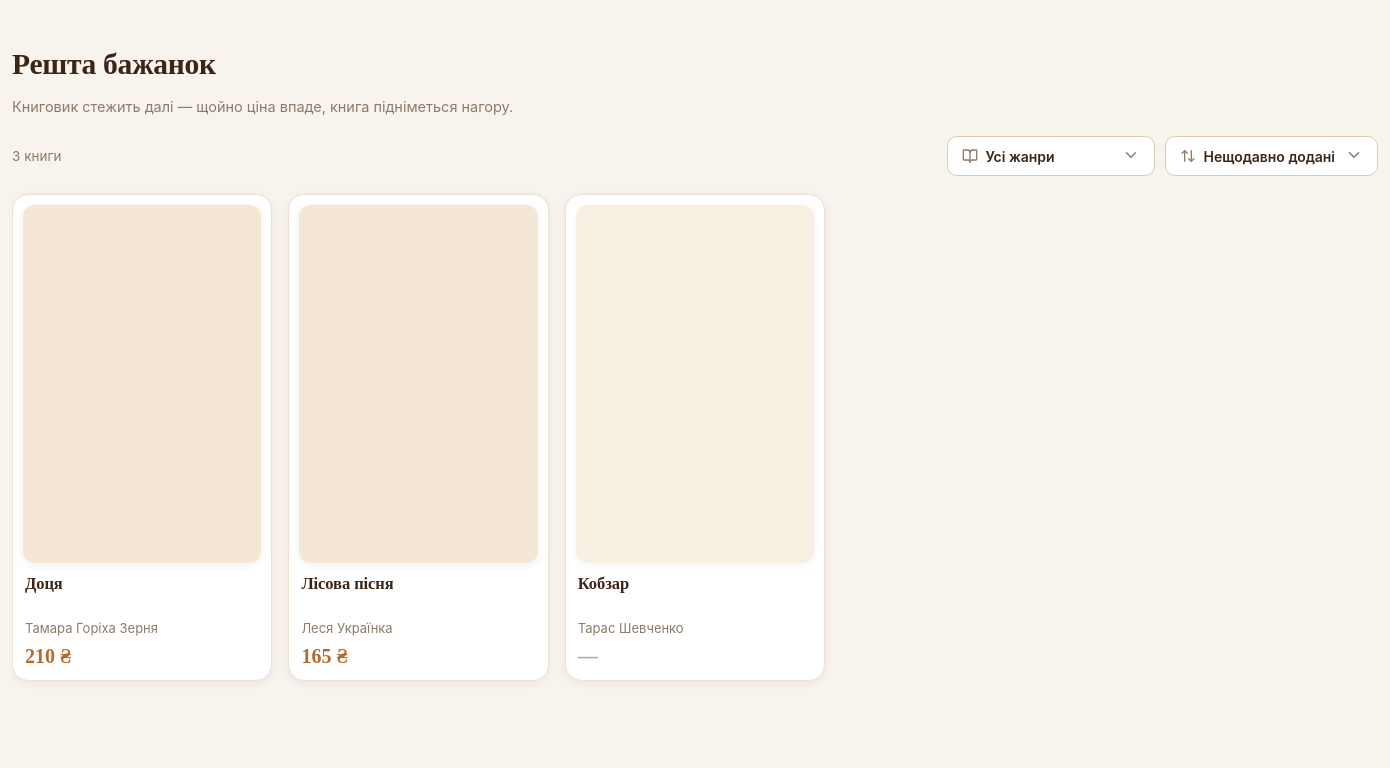
Test: RestOfWishlist › derives genre options sorted by count desc then uk alphabet
Click the button "Усі жанри" at (1050, 156), box x1=946 y1=136 x2=1154 y2=176
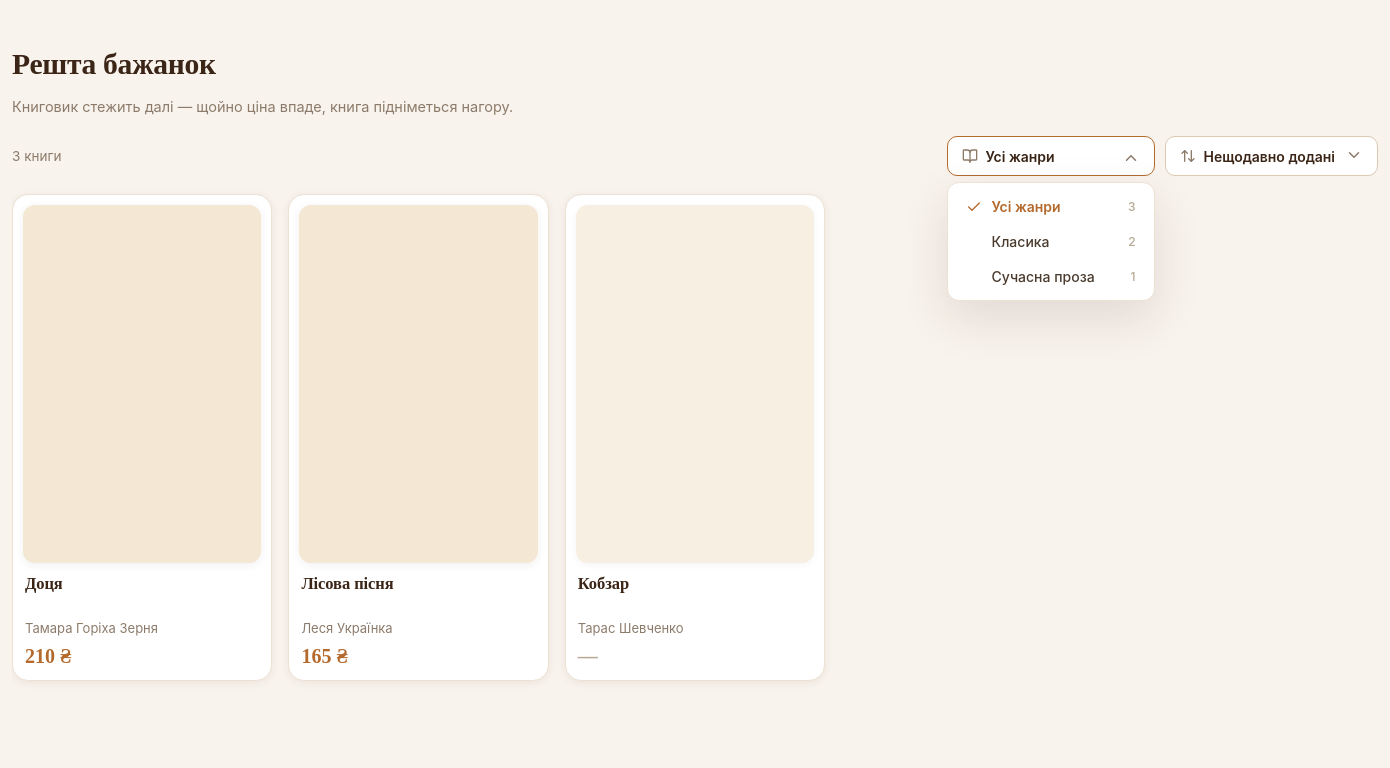
expect the option "Усі жанри 3" is shown: met, box x1=954 y1=189 x2=1148 y2=224
expect the option "Класика 2" is shown: met, box x1=954 y1=224 x2=1148 y2=259
expect the option "Сучасна проза 1" is shown: met, box x1=954 y1=259 x2=1148 y2=294
